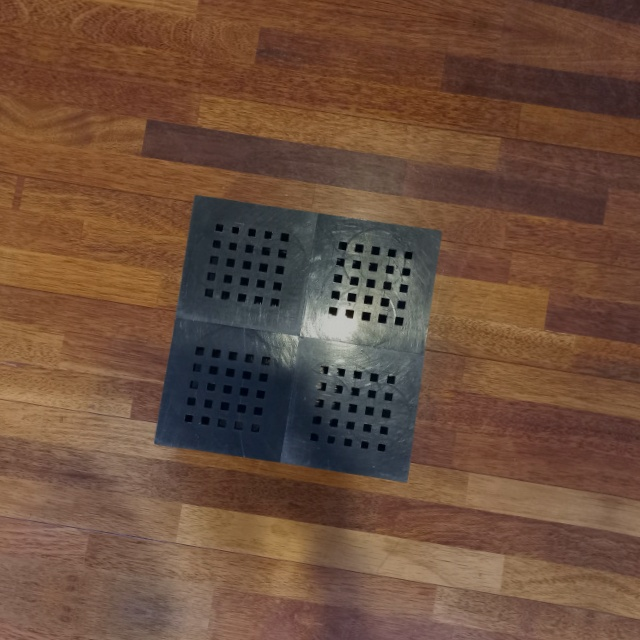pallet: (146, 185, 447, 491)
